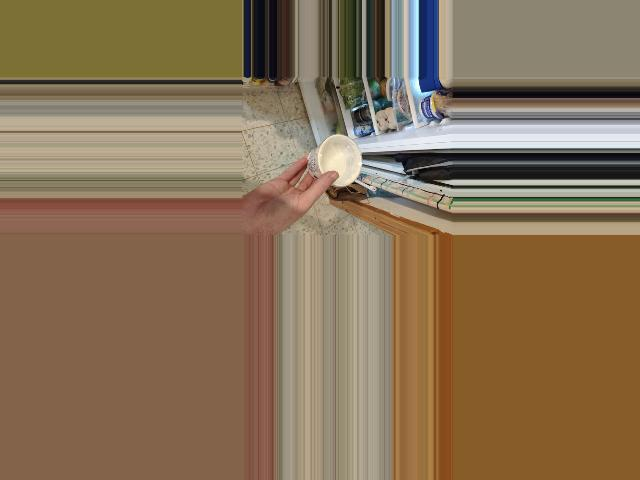cotage: (303, 143, 361, 191)
